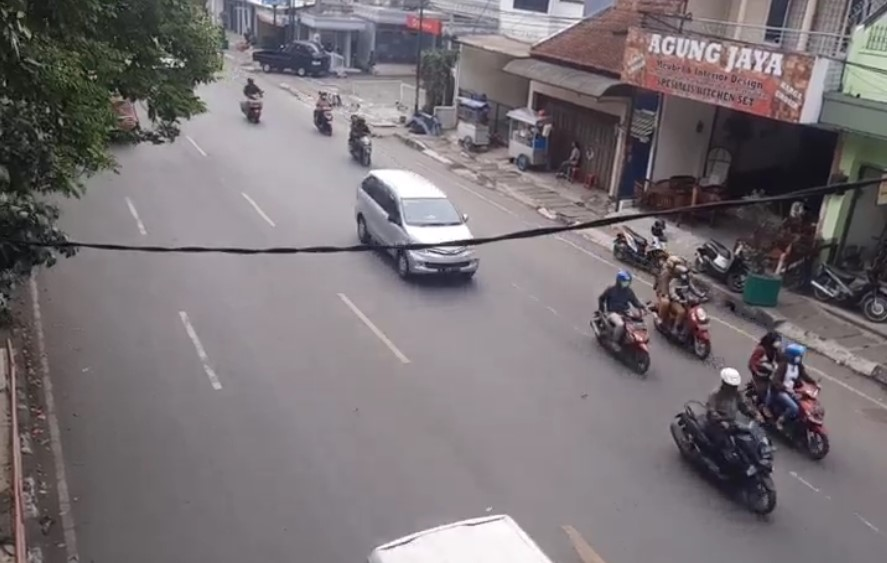mobil: (355, 165, 485, 289)
motor: (666, 373, 780, 512), (741, 335, 839, 459), (652, 254, 715, 359), (594, 271, 652, 375), (346, 113, 377, 162)
